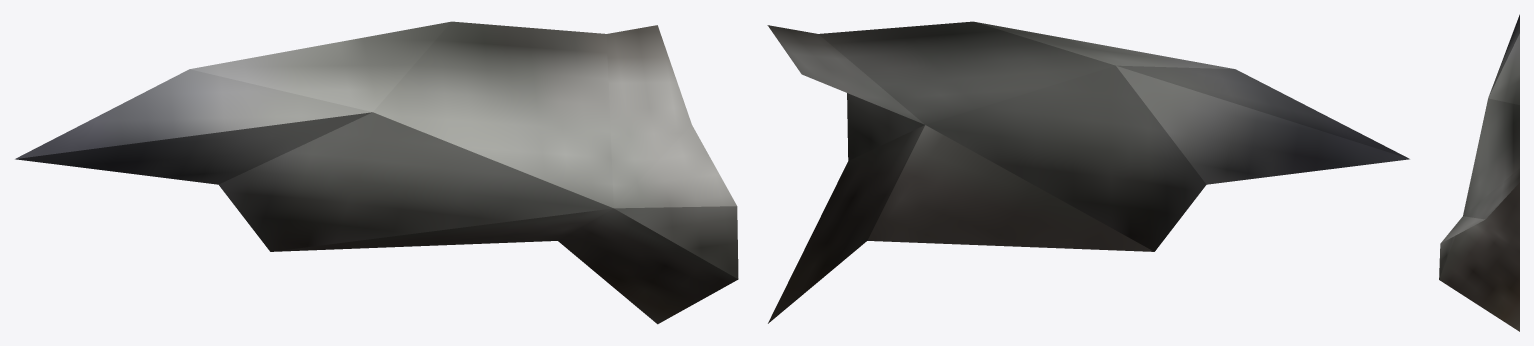
The picture shows the model from 3 angles, left to right: view 1: azimuth 30°, elevation 25°; view 2: azimuth 150°, elevation 25°; view 3: azimuth 270°, elevation 25°; orthographic projection. The views are drawn at different scales.
Size of the model in its own units: 0.175 by 0.096 by 0.0381.
1 material, 1 textured.
